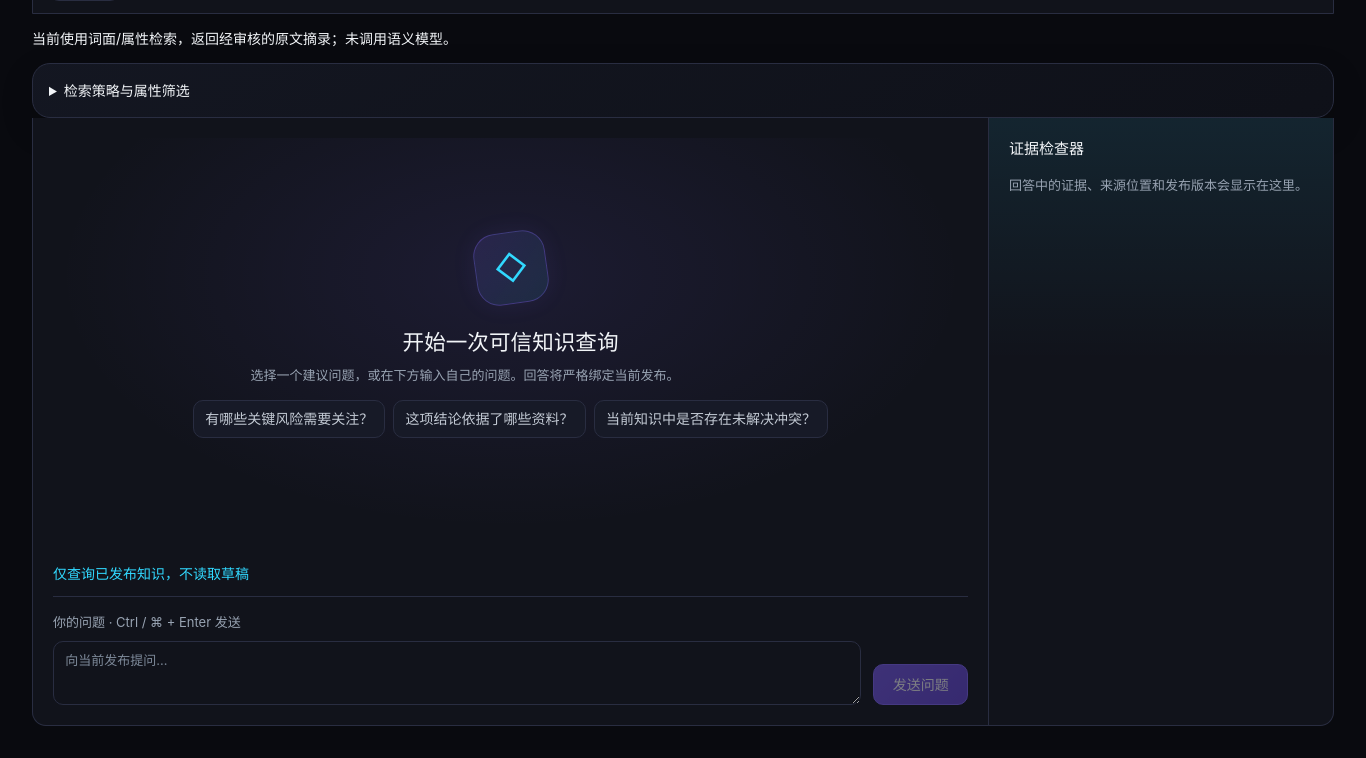
Test case: M7 trusted consumption pages › renders an explicit evidence refusal returned by the fixed Release API
The image size is (1366, 758).
(page scrolled)
Type "未知问题" into the text box with placeholder "向当前发布提问…".
click(457, 673); type("未知问题")  # box [53,641,861,705]
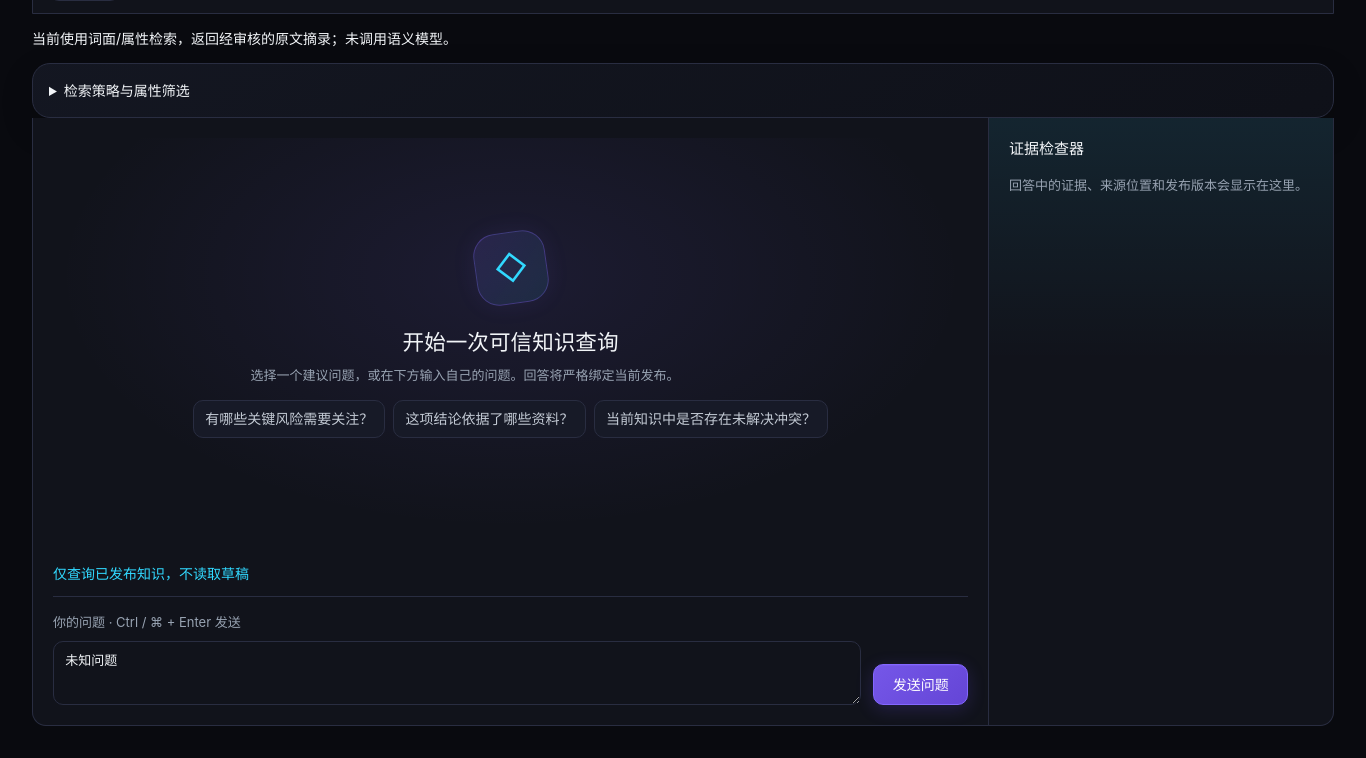
Click the button "发送问题".
click(921, 685)  # box [873,664,968,705]
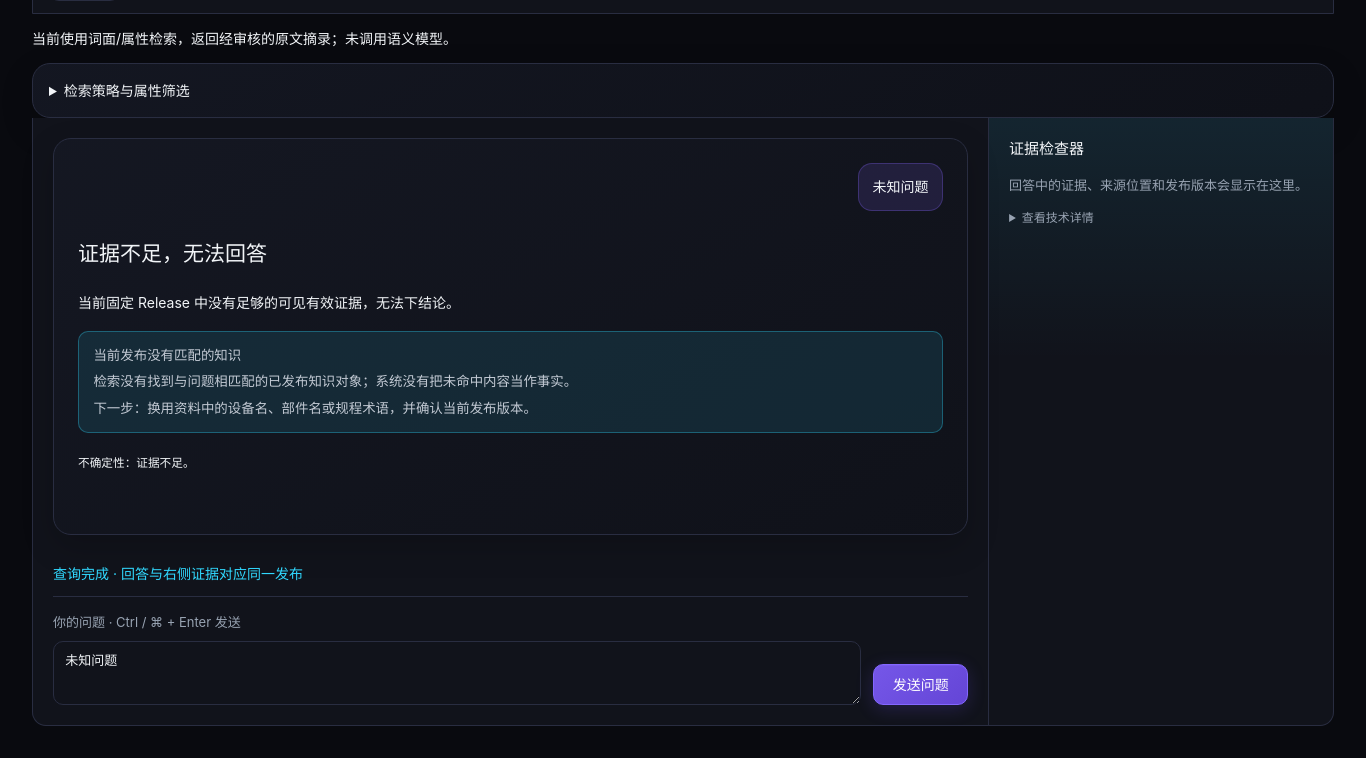
Now the heading "证据不足，无法回答" is shown, box [78,241,267,266]
Now the text "当前固定 Release 中没有足够的可见有效证据，无法下结论。" is shown, box [78,294,460,311]
Now the text "当前发布没有匹配的知识" is shown, box [93,347,241,363]
